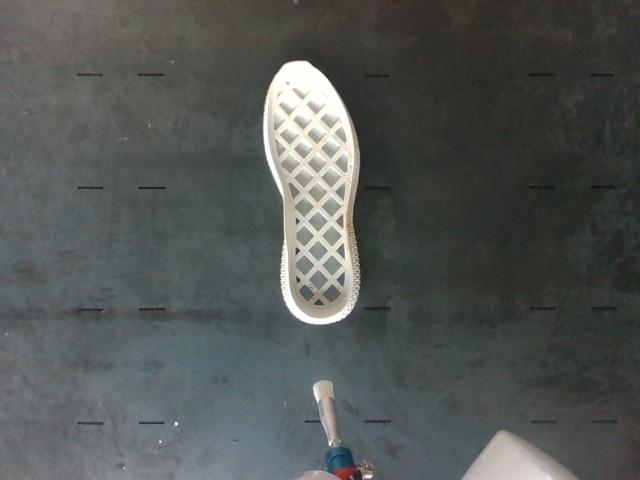shoes: (268, 61, 354, 318)
